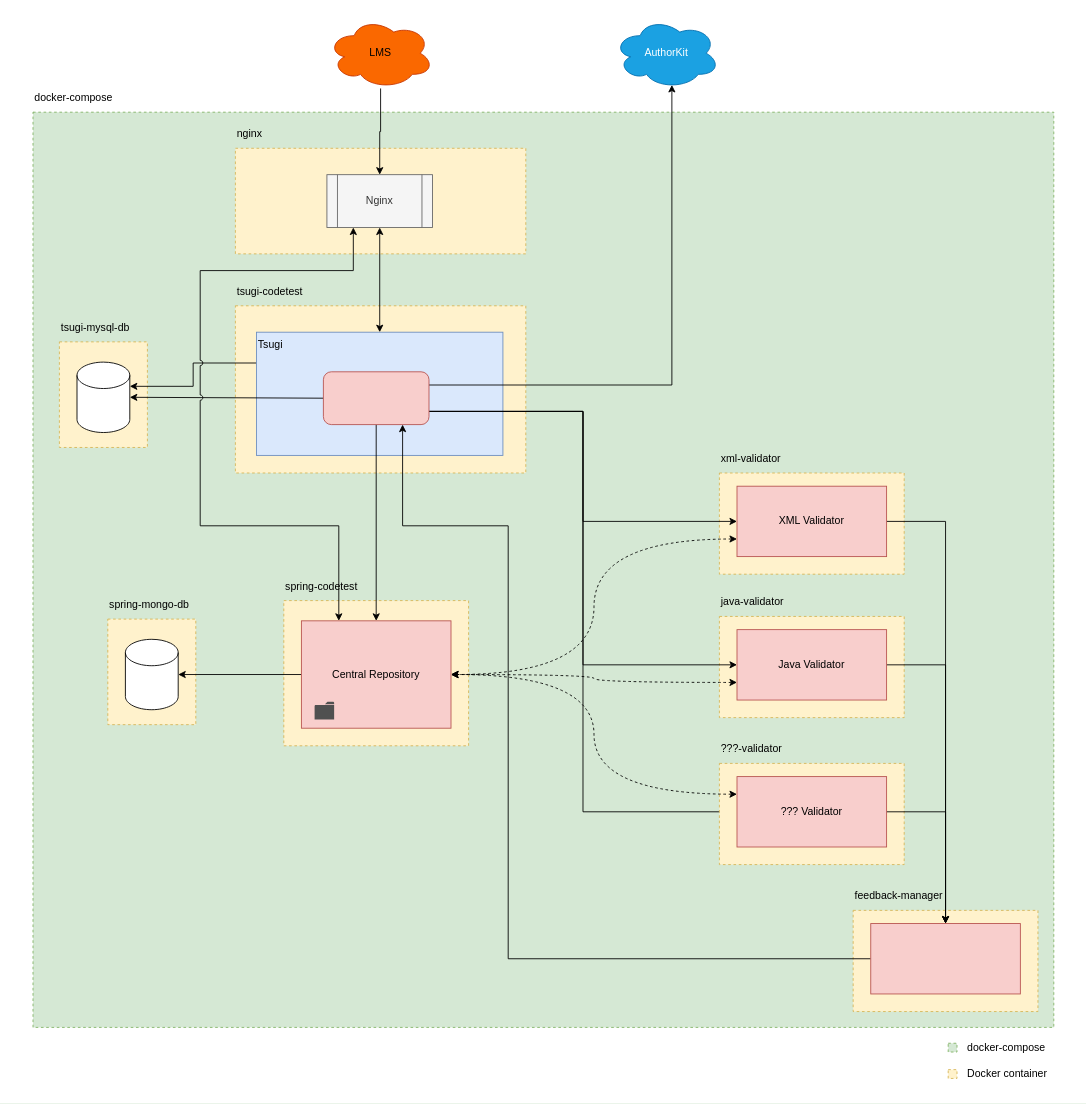
Image size: 1086x1104. Some labels were removed from this diagram. Here are the shapes that lost their labels. From the top down, the centre of each, then its label:
At pixel 103 397: "MySQL".
At pixel 376 398: "CodeTest".
At pixel 151 674: "Mongo".
At pixel 945 958: "Feedback Manager".
